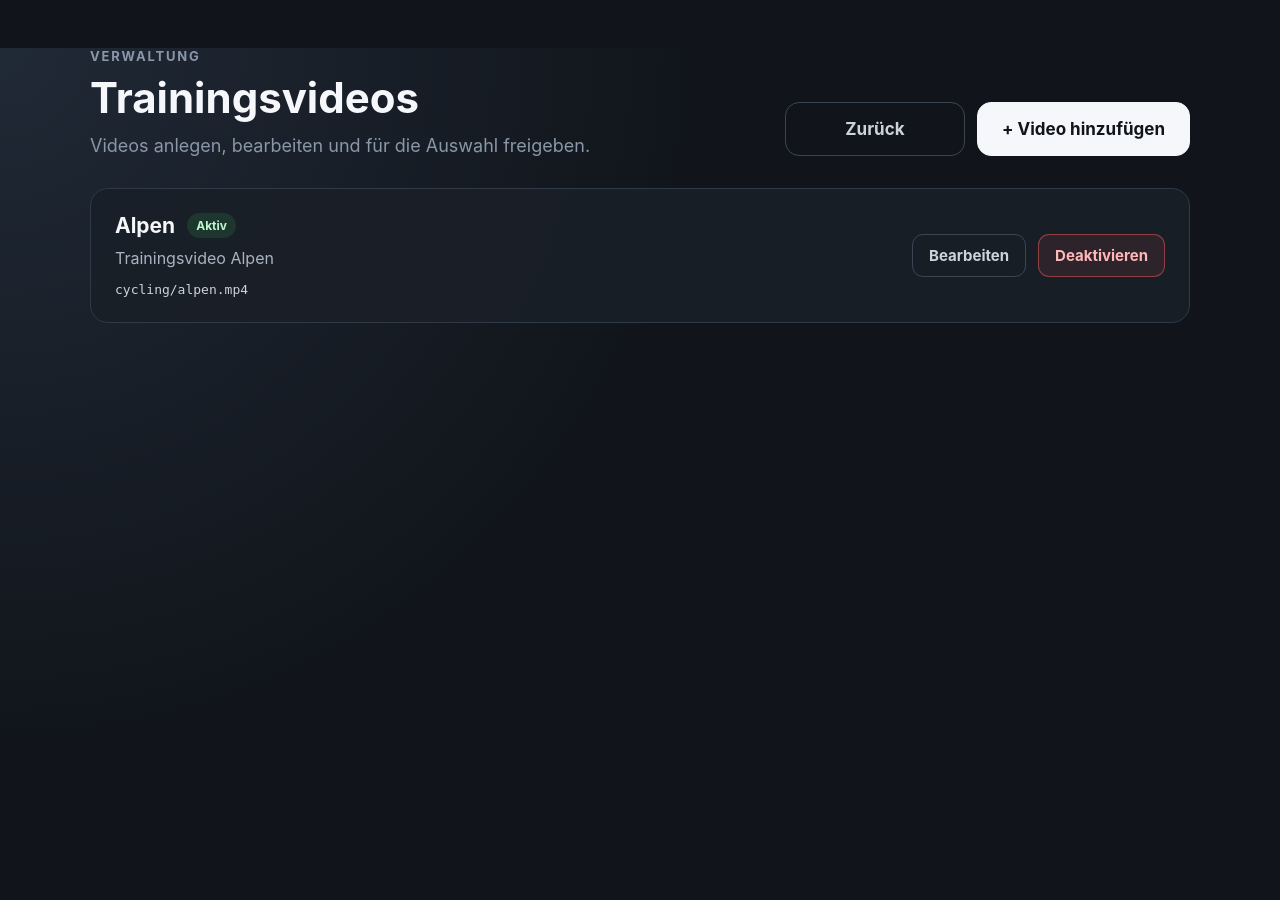
WorkoutVideoManagement › edits and deactivates a workout video
Expected: the text "Alpen" is shown, x1=115 y1=213 x2=175 y2=238
Click the button "Bearbeiten". click: (969, 256)
box: x1=912 y1=234 x2=1026 y2=277
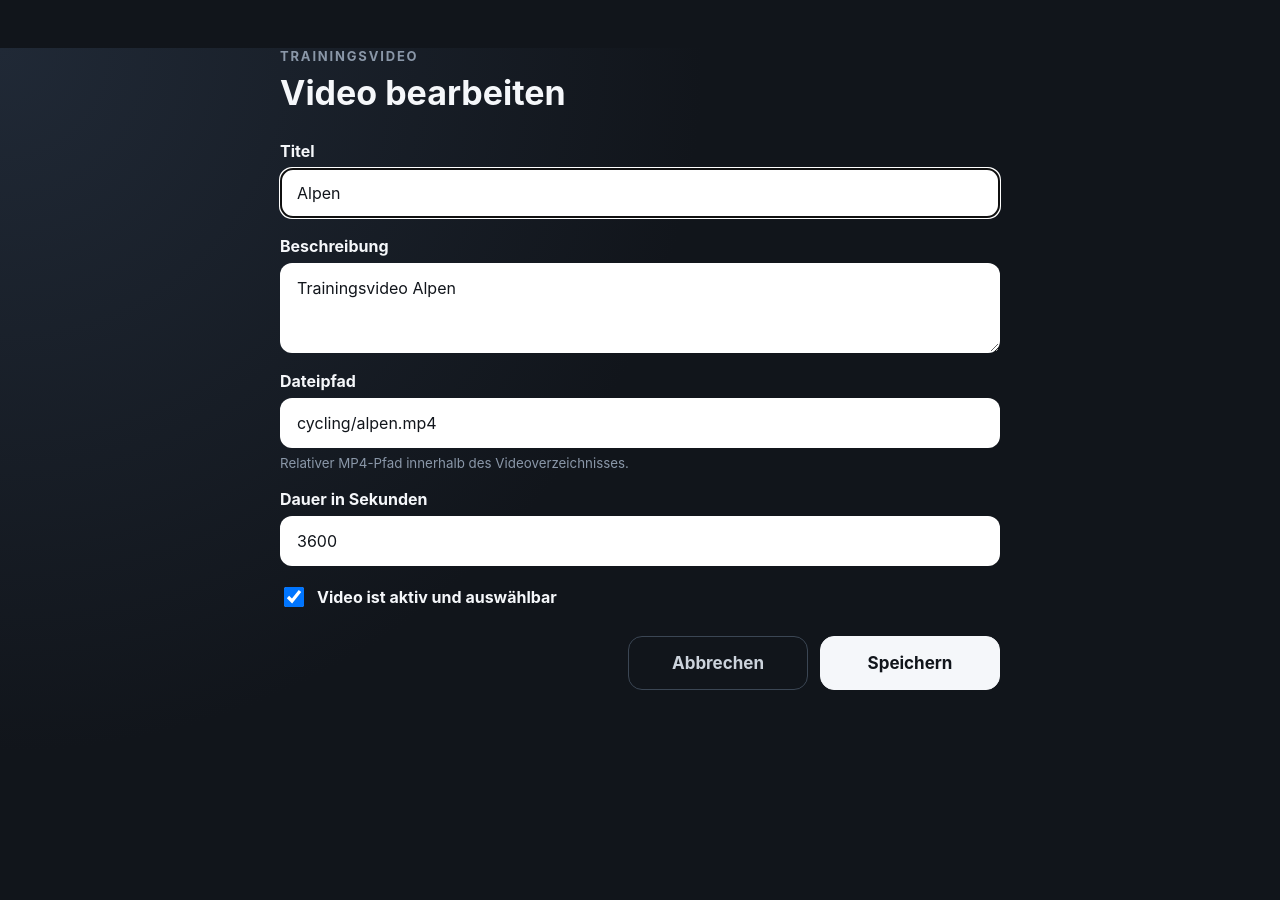
Replace the text in the field labelled "Titel" with "Alpenrunde". click: (640, 193)
box: x1=280 y1=168 x2=1000 y2=218
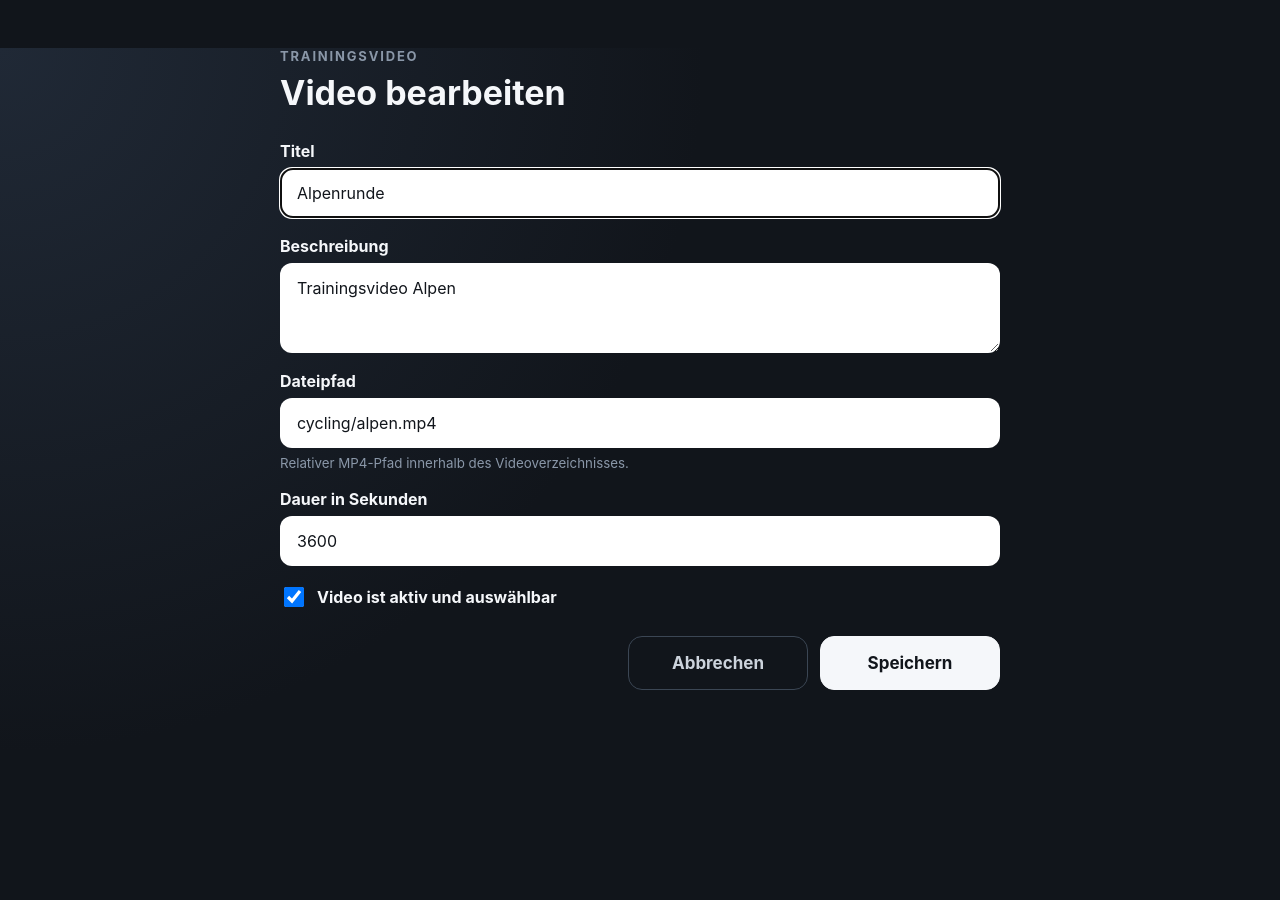
Click the button "Speichern". click: (910, 663)
box: x1=820 y1=636 x2=1000 y2=690
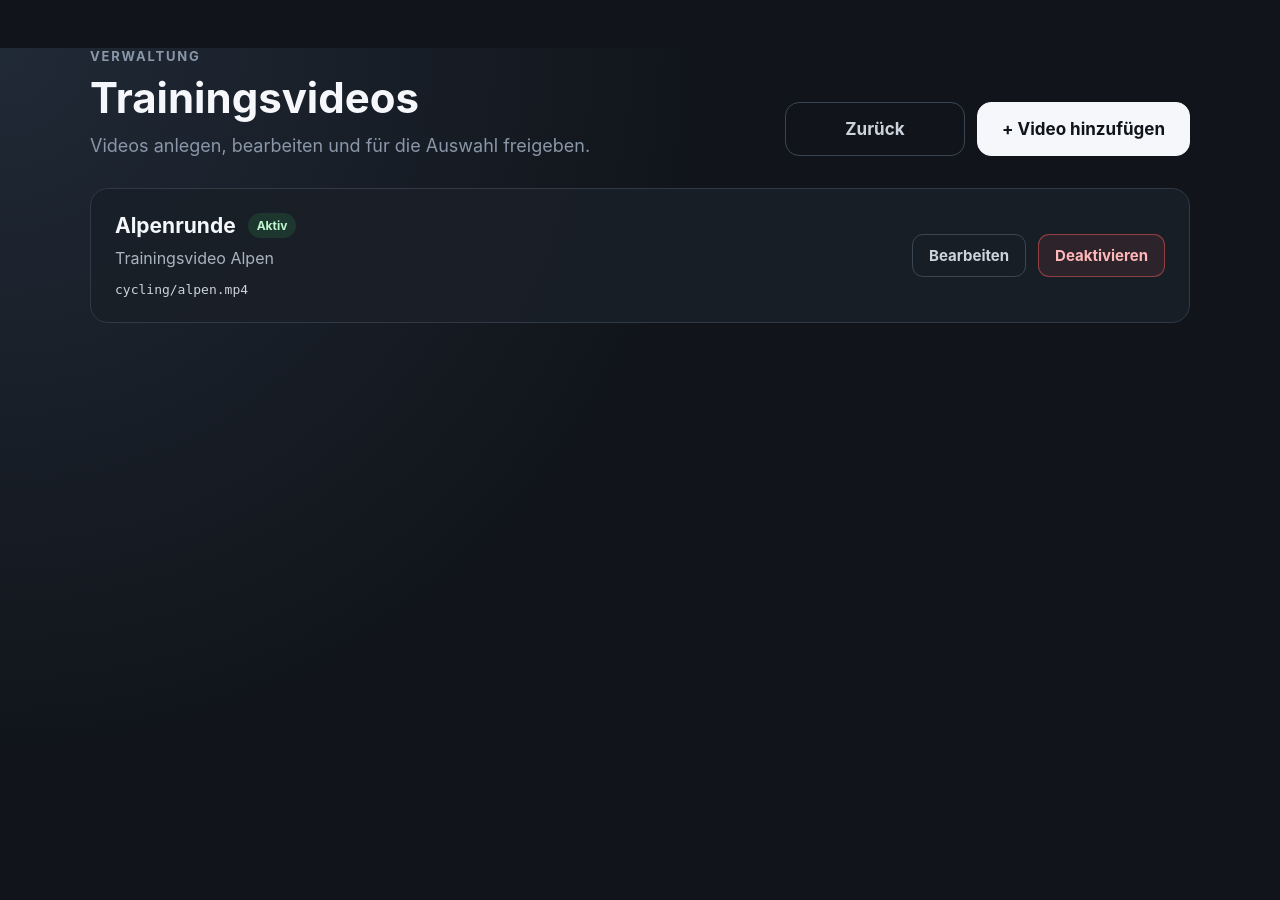
Result: the text "Alpenrunde" is shown at x1=115 y1=213 x2=236 y2=238
Click the button "Deaktivieren". click: (1102, 256)
box: x1=1038 y1=234 x2=1165 y2=277
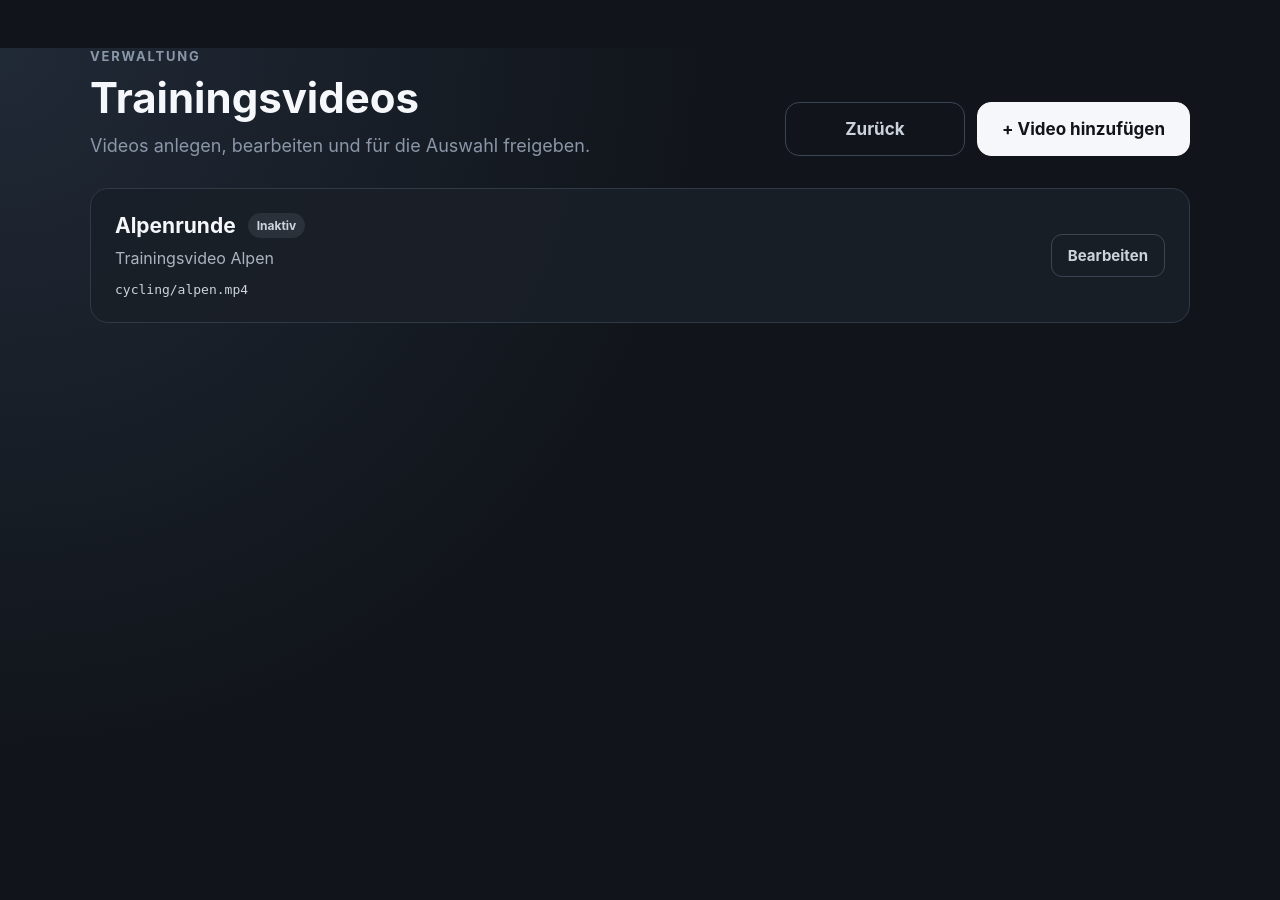
Result: the text "Inaktiv" is shown at x1=248 y1=213 x2=305 y2=238
